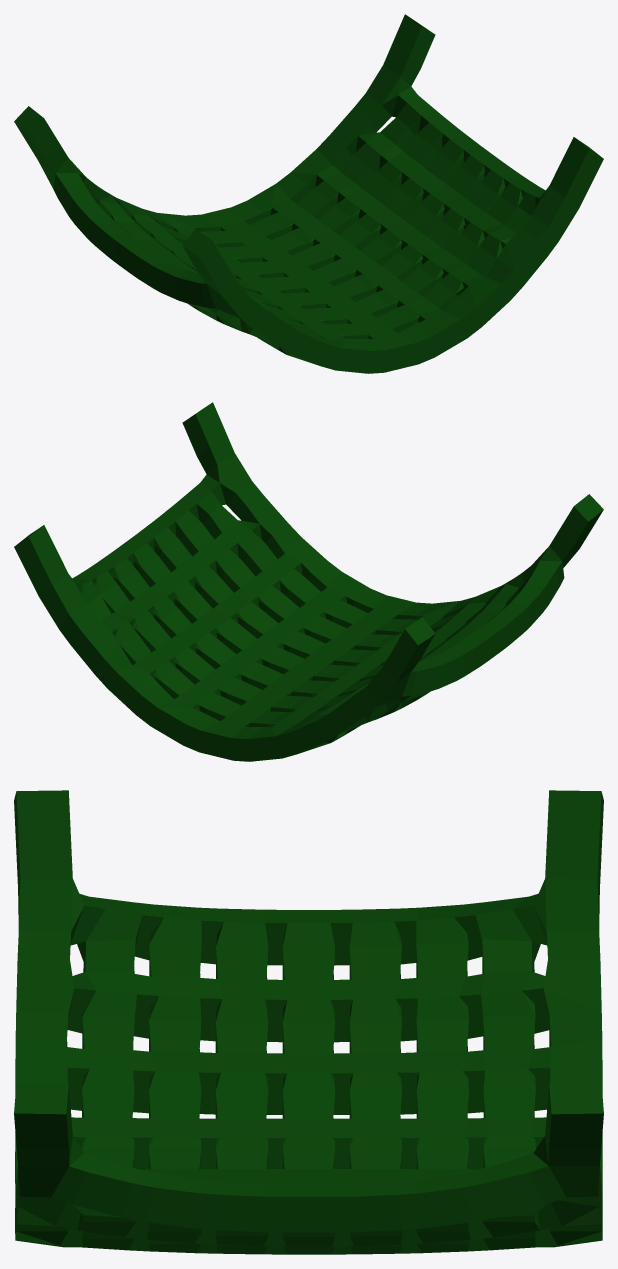
The model's file is net.fbx.
3 renders of one model, top to bottom at view 1: azimuth 30°, elevation 25°; view 2: azimuth 150°, elevation 25°; view 3: azimuth 270°, elevation 25°, orthographic. The views are drawn at different scales.
Parts seen in each view (by area): view 1: Plane; view 2: Plane; view 3: Plane.
Part boxes in pixels (x1,y1,x2,y2): Plane: [14, 14, 603, 373]; Plane: [14, 402, 603, 761]; Plane: [14, 790, 603, 1254].
Size of the model in its own units: 709 by 294 by 562.
